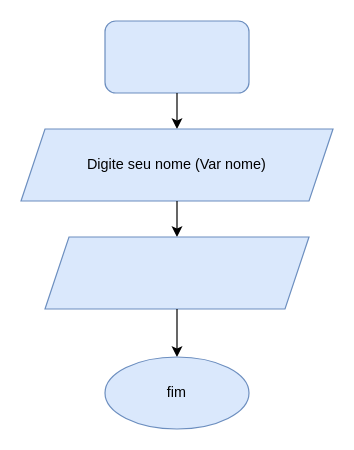
Some shapes in this 354 by 450 pixel diagram are drawn without their labels. Each missing label, with the box of its shape:
Imprima Ola 'nome': (44, 236, 309, 309)
Inicio: (104, 20, 249, 93)
